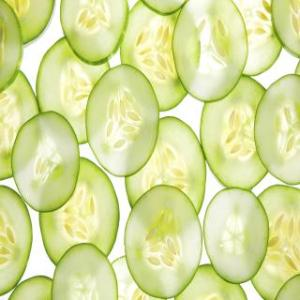cucumber: (125, 115, 207, 229), (122, 184, 204, 296), (43, 155, 119, 267), (38, 35, 112, 149), (85, 66, 160, 176), (202, 74, 270, 192), (172, 1, 246, 102), (12, 110, 76, 212), (207, 186, 271, 284), (256, 74, 300, 186), (50, 242, 118, 300)
